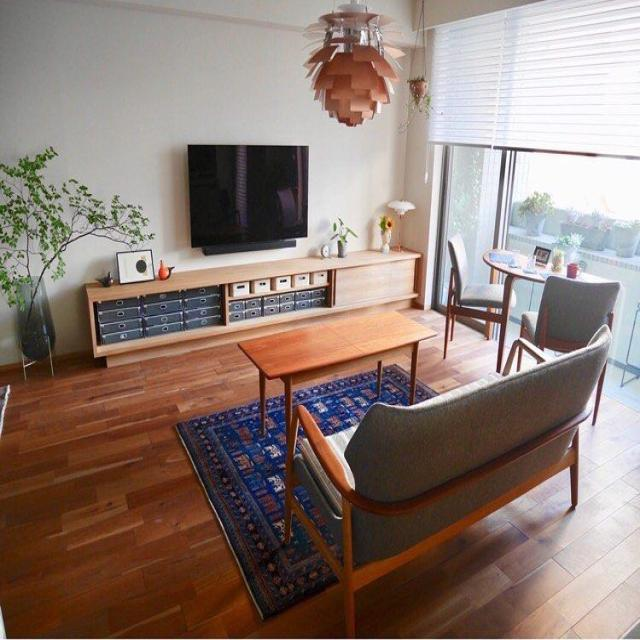vintage chair: (282, 325, 611, 632), (438, 228, 518, 364)
